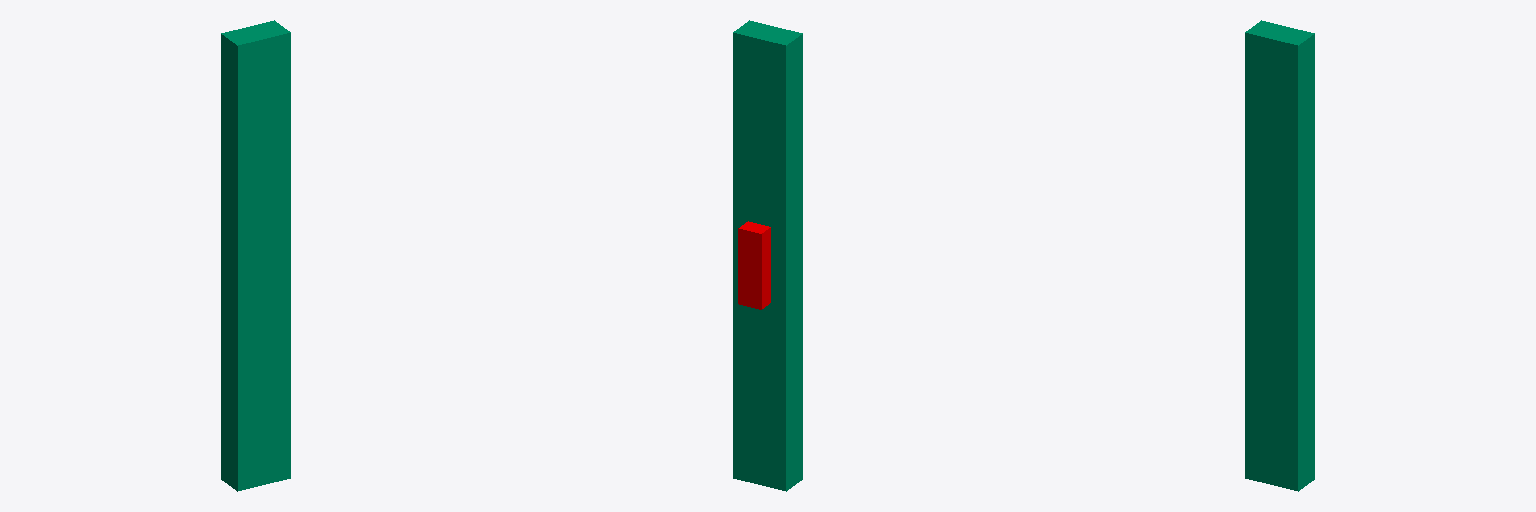
The robot description file, URDF, robot "knife":
<?xml version='1.0' encoding='utf-8'?>
<robot name="knife">
  <link name="base" /><joint name="joint_0" type="fixed"><origin xyz="0 0 0" rpy="0 0 0" /><parent link="base" /><child link="link_0" /></joint><link name="link_1">
    <visual name="link_1">
      <origin xyz="0 0.007830 0" rpy="0 0 0" />
      <geometry>
        <box size="0.007959396628982467 0.005813232707844232 0.024876041222511008" /></geometry>
    <material name="red"><color rgba="1 0 0 1" /></material></visual>
    <collision>
      <origin xyz="0 0.007830 0" rpy="0 0 0" />
      <geometry>
        <box size="0.007959396628982467 0.005813232707844232 0.024876041222511008" /></geometry>
    </collision>
    </link>
  <joint name="joint_1" type="prismatic">
    <origin xyz="0 0 0" />
    <axis xyz="0 0 1" />
    <child link="link_1" />
    <parent link="link_0" />
    <limit lower="-0.040809" upper="0.009191" effort="100.0" velocity="1.0" />
  </joint>
  <link name="link_0">
    <visual name="link_0">
      <origin xyz="0 0 0" />
      <geometry>
        <box size="0.01836970978633367 0.009845867095504033 0.14614135792964242" /></geometry>
    </visual>
    <collision>
      <origin xyz="0 0 0" />
      <geometry>
        <box size="0.01836970978633367 0.009845867095504033 0.14614135792964242" /></geometry>
    </collision>
    </link>
</robot>

--- Facts derived from the render (not from the file) ---
Views: 3 orthographic renders of the robot side by side, from view 1: azimuth 30°, elevation 25°; view 2: azimuth 150°, elevation 25°; view 3: azimuth 330°, elevation 25°.
Model knife with 3 links and 2 joints (1 prismatic, 1 fixed), rooted at base, posed every joint at zero.
Visible links, largest first — view 1: link_0; view 2: link_0, link_1; view 3: link_0.
Boxes of the visible links, x1=… form: link_0: x1=221, y1=20, x2=290, y2=491; link_0: x1=733, y1=20, x2=802, y2=491; link_1: x1=738, y1=221, x2=770, y2=309; link_0: x1=1245, y1=20, x2=1314, y2=491.
Size in the robot's own frame: 0.0184 by 0.0157 by 0.1461 metres.
Geometry: primitives only (box / cylinder / sphere), no mesh files.
